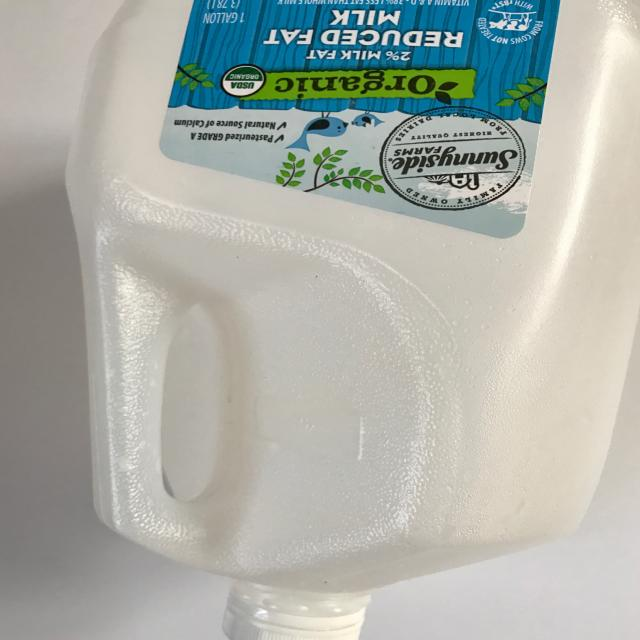plastic: (62, 0, 640, 640)
